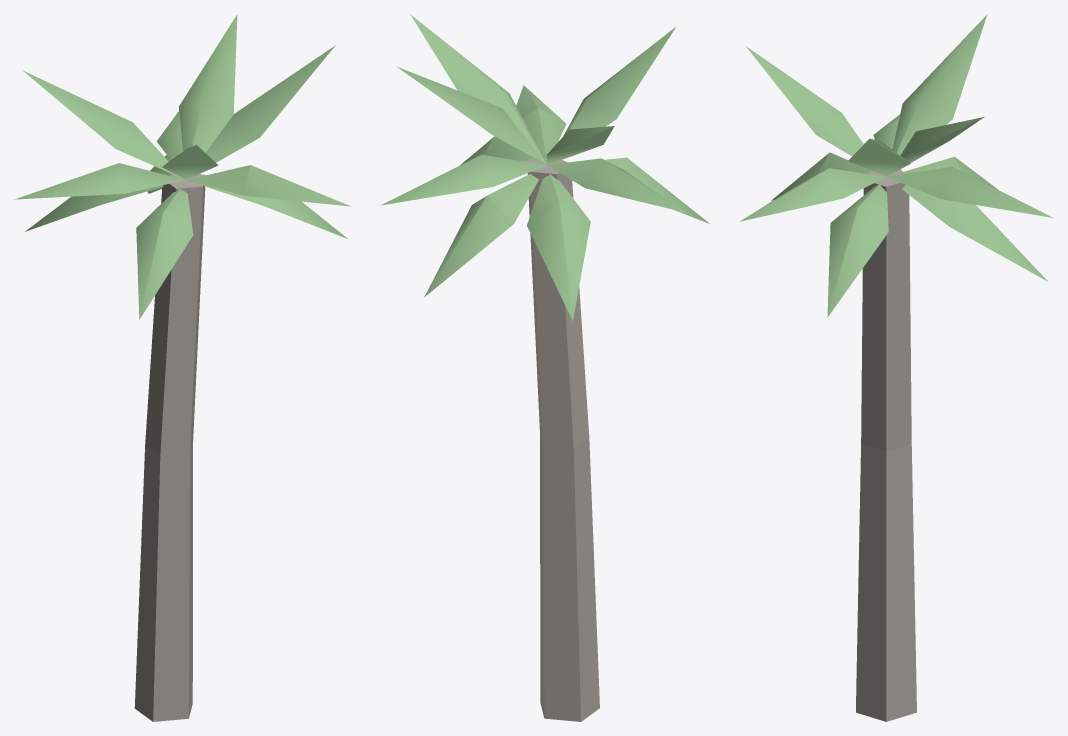
The model's file is tree-palm-date-b-far.glb.
3 renders of one model, left to right at view 1: azimuth 30°, elevation 25°; view 2: azimuth 150°, elevation 25°; view 3: azimuth 270°, elevation 25°, orthographic. The views are drawn at different scales.
Parts seen in each view (by area): view 1: tree-palm-date-b-far; view 2: tree-palm-date-b-far; view 3: tree-palm-date-b-far.
Boxes of the visible parts, x1,y1,x2,y2 form: tree-palm-date-b-far: (14,14,350,721); tree-palm-date-b-far: (380,14,709,721); tree-palm-date-b-far: (740,14,1052,721).
Bounding box in the file's own units: 0.488 × 0.9978 × 0.4367.
